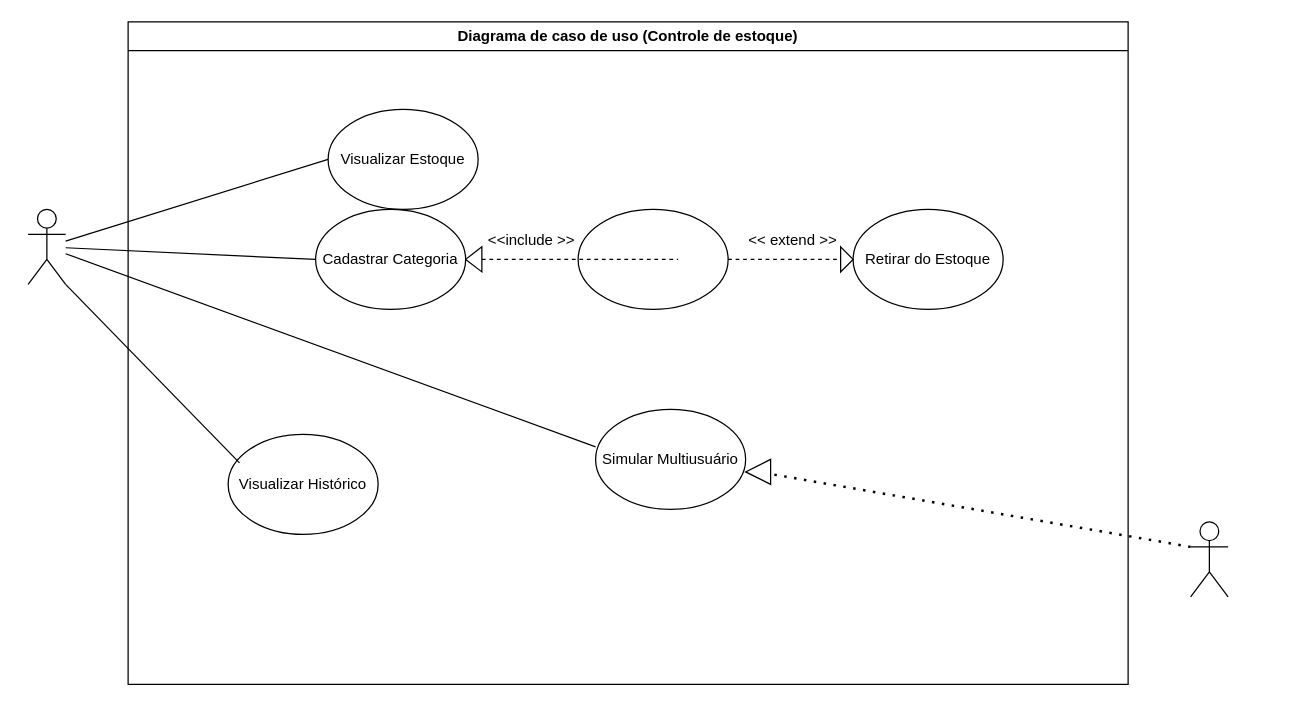
This 1298x706 diagram has some shape labels left out. Each missing label, with the centre of its shape:
Cadastrar produto: (x=652, y=258)
Sistema de Threads: (x=1208, y=559)
Usuário: (x=46, y=246)
